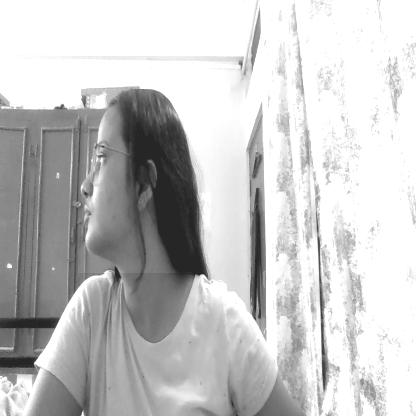Distracted: (78, 90, 192, 274)
